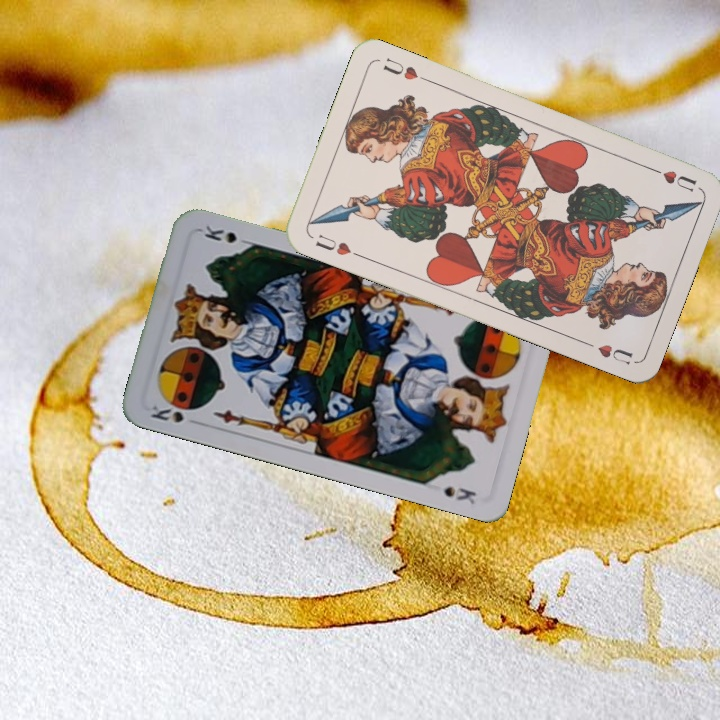HU: (645, 163, 699, 195), (311, 230, 364, 260)
SK: (147, 401, 187, 426)
